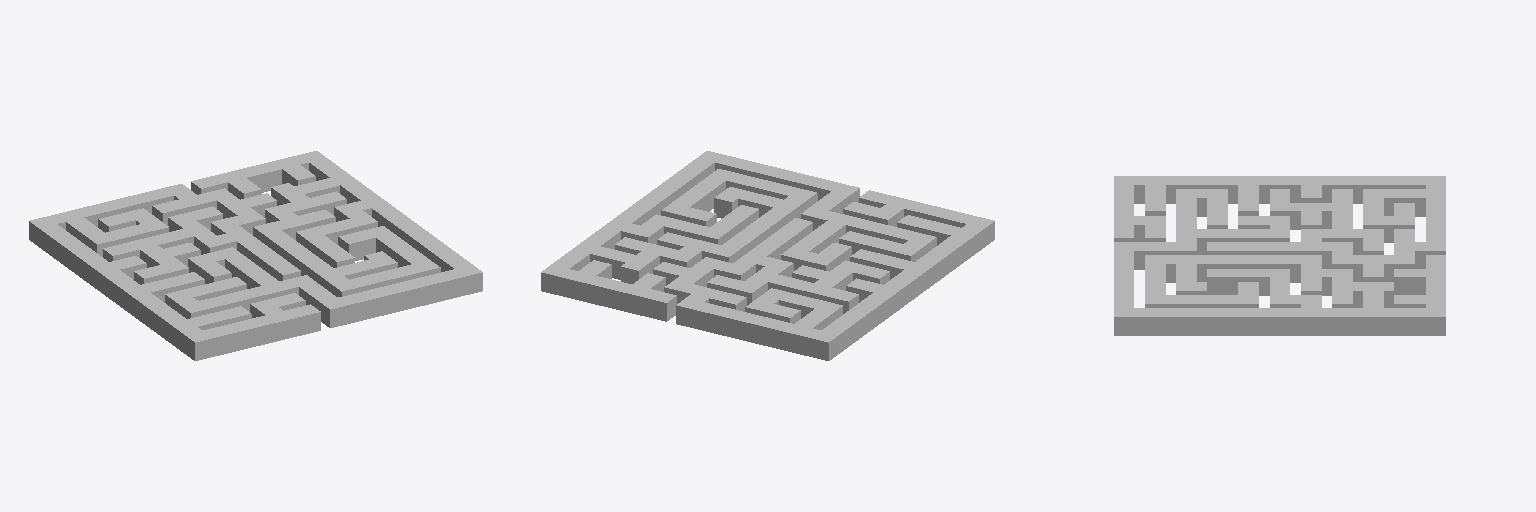
The model's file is lab.obj.
3 renders of one model, left to right at view 1: azimuth 30°, elevation 25°; view 2: azimuth 150°, elevation 25°; view 3: azimuth 270°, elevation 25°, orthographic.
Parts seen in each view (by area): view 1: Plane.001; view 2: Plane.001; view 3: Plane.001.
Part boxes in pixels (x1,y1,x2,y2): Plane.001: (29, 151, 482, 360); Plane.001: (541, 151, 994, 360); Plane.001: (1114, 176, 1445, 335).
Size of the model in its own units: 16 by 1 by 16.